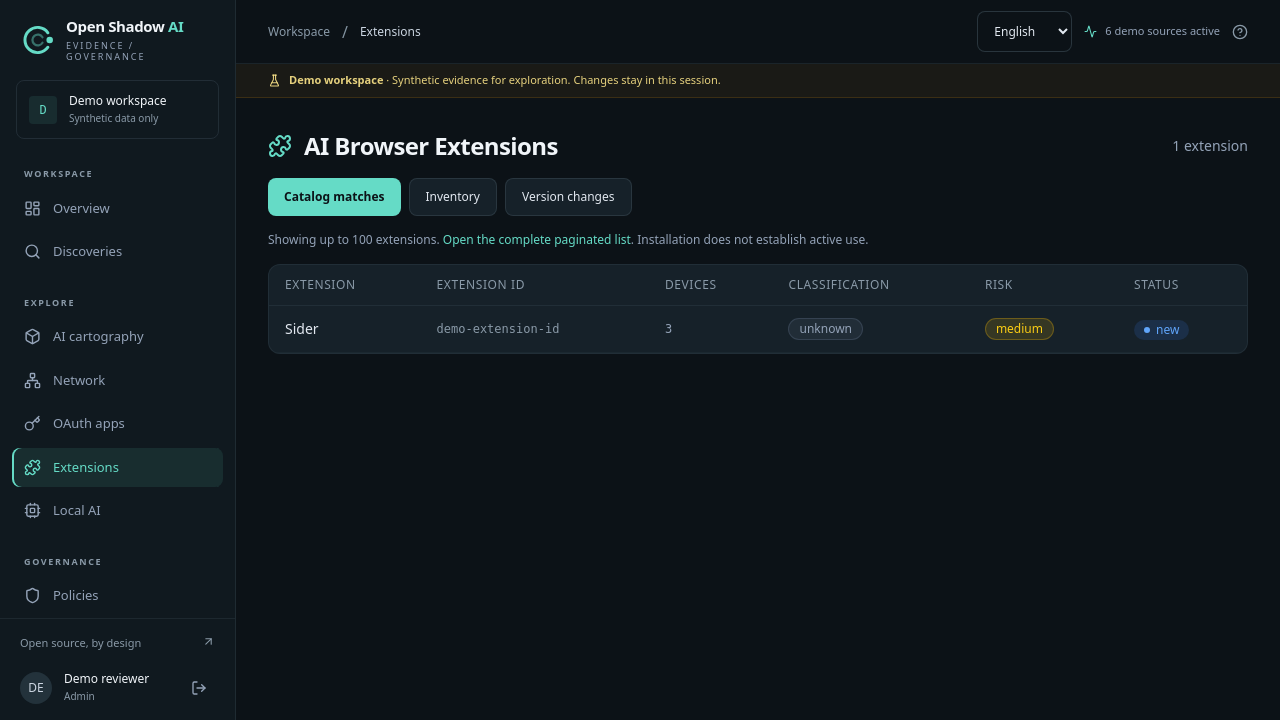
en full console › renders localized page and navigation at /extensions
The width and height of the screenshot is (1280, 720).
Expected: the heading "AI Browser Extensions" is shown, [304,130,558,162]
Select "English" in the dropdown named "Language" at (1025, 32), box [977,11,1072,52]
Expected: the heading "AI Browser Extensions" is shown, [304,130,558,162]
Select "Français" in the dropdown named "Language" at (1025, 32), box [977,11,1072,52]
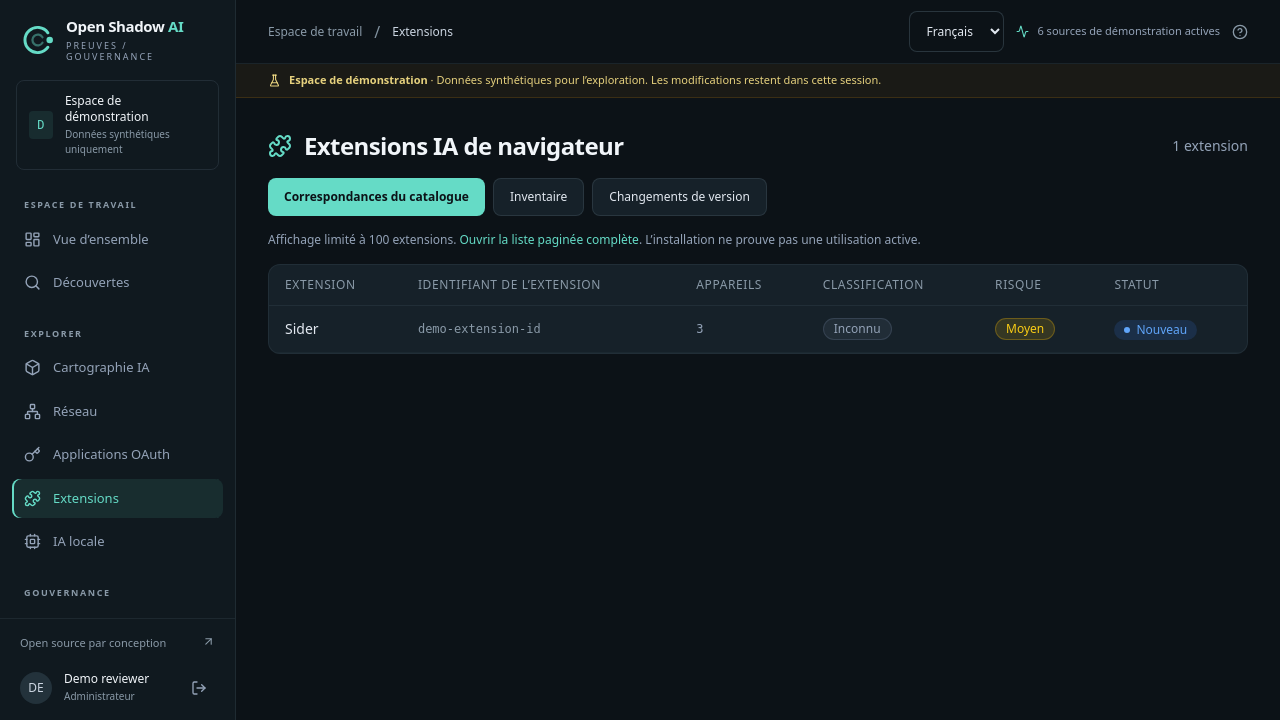
Expected: the heading "Extensions IA de navigateur" is shown, [304,130,624,162]
Select "简体中文" in the dropdown named "Langue" at (957, 32), box [910,11,1004,52]
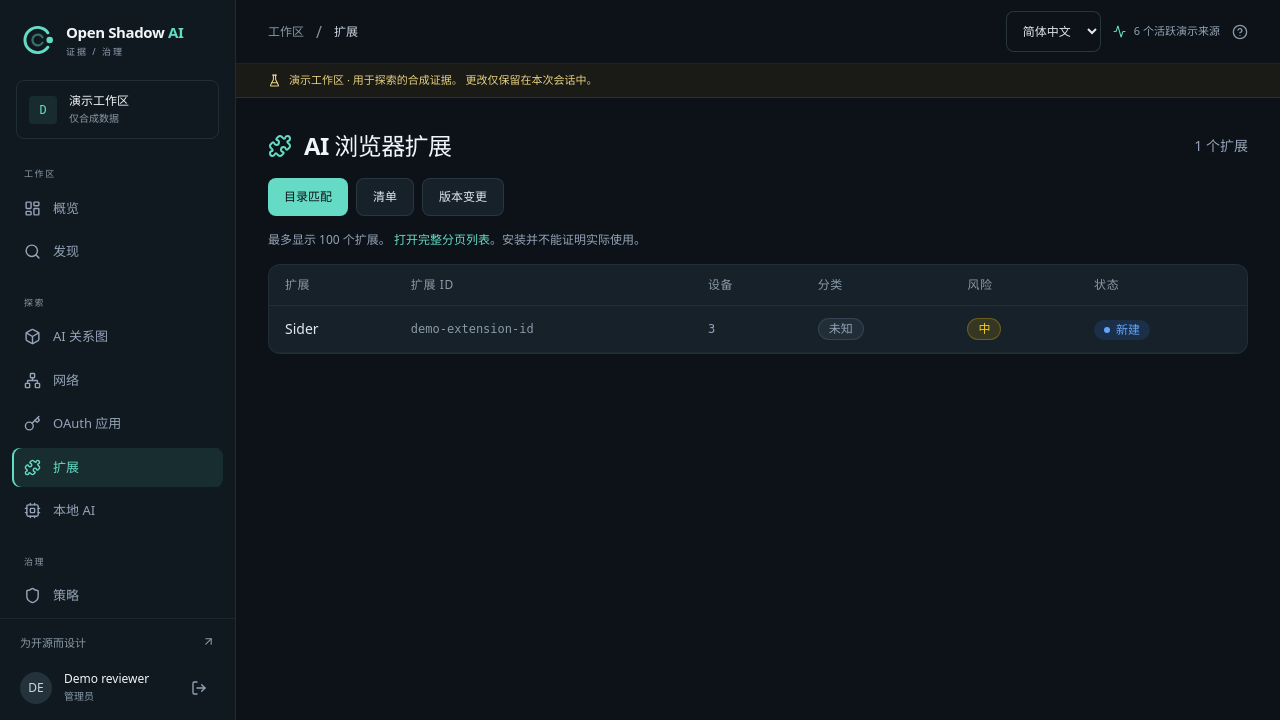
Expected: the heading "AI 浏览器扩展" is shown, [304,130,451,162]
